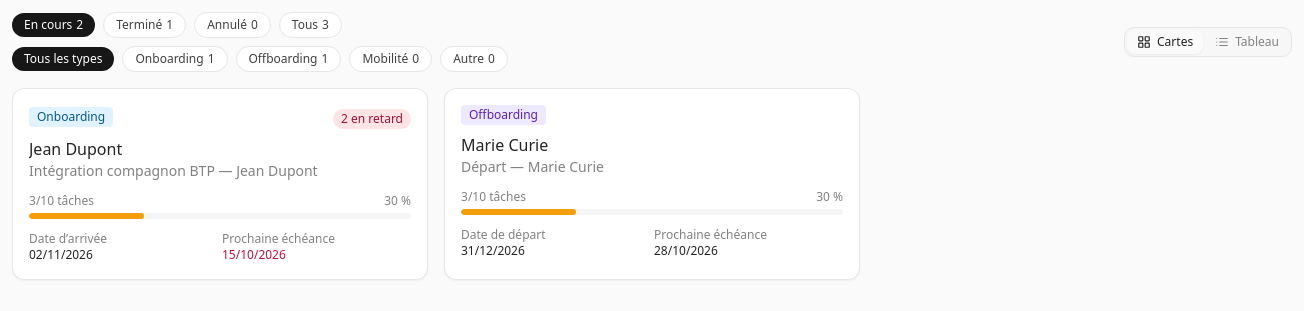
Test case: ProcessusListe › bascule en vue tableau (lignes cliquables vers la fiche)
Click the button "Tableau" at (1247, 42), box [1205,30,1289,54]
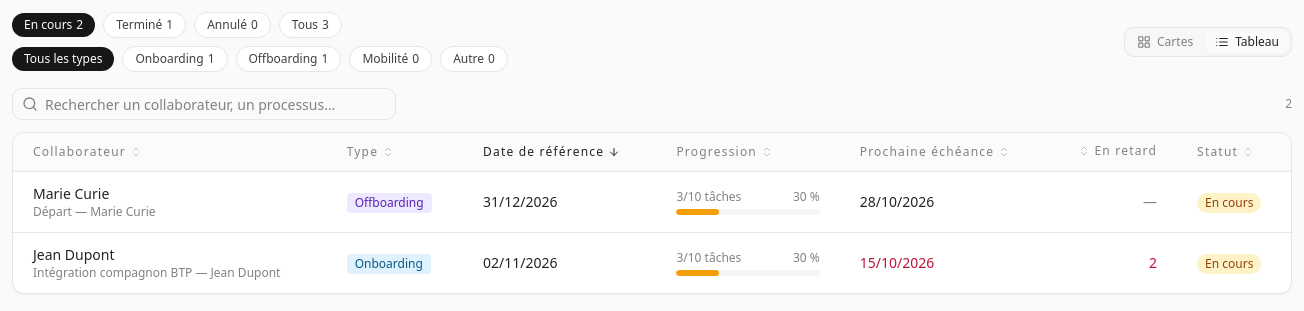
Now the table is shown, box [13,133,1291,293]
Now the number of rows is 3, box [13,133,1291,172]; [13,172,1291,232]; [13,232,1291,293]
